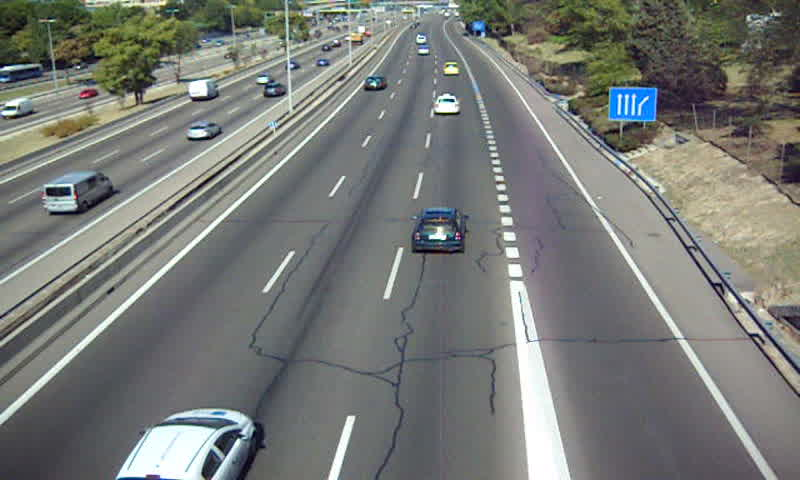car: (412, 207, 468, 252), (432, 93, 462, 115), (362, 76, 386, 91), (416, 46, 431, 57)
